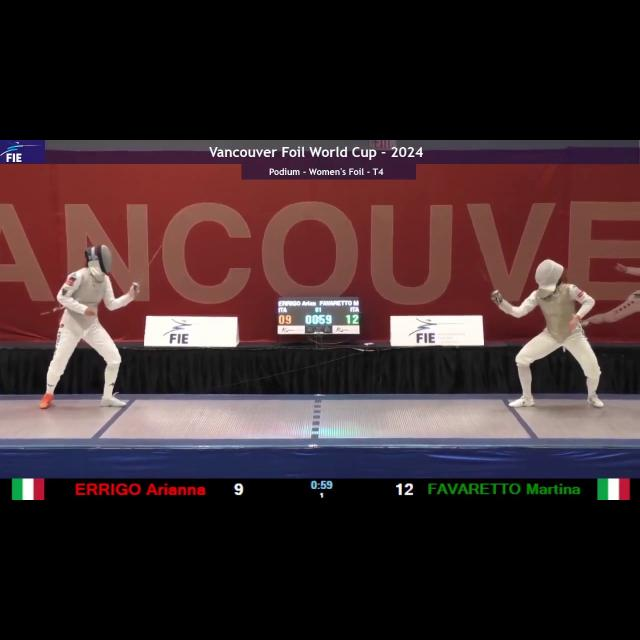blade: (130, 240, 164, 288)
